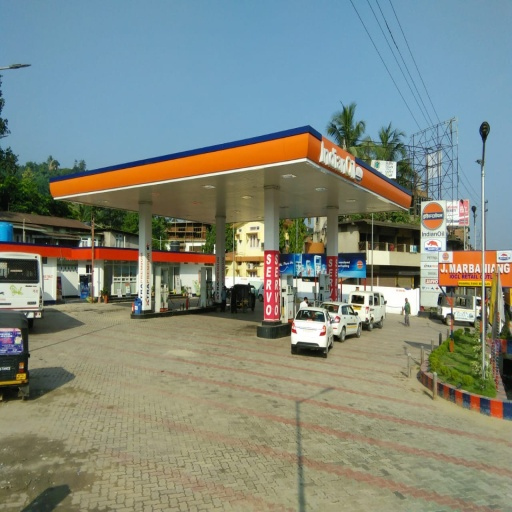roof: (50, 123, 413, 228)
